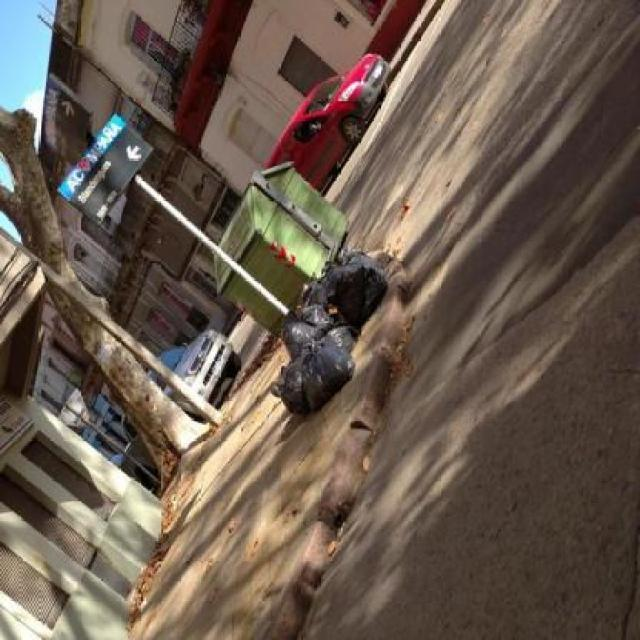garbage: (252, 245, 440, 417), (131, 517, 167, 572), (119, 572, 153, 614), (157, 491, 194, 516)
